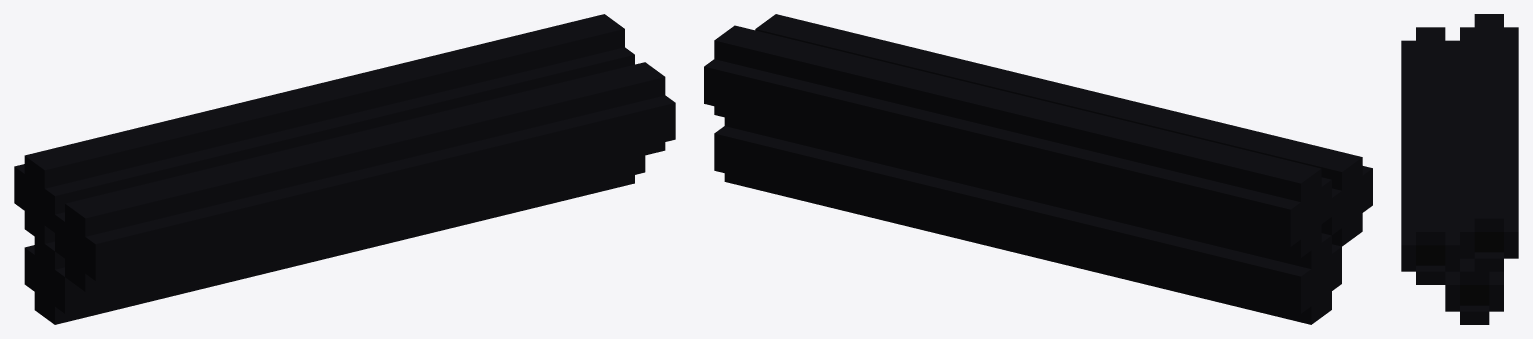
The model's file is chaingun-11-barrel2.obj.
3 views of the same model, side by side, from view 1: azimuth 30°, elevation 25°; view 2: azimuth 150°, elevation 25°; view 3: azimuth 270°, elevation 25° (orthographic). The views are drawn at different scales.
Parts seen in each view (by area): view 1: barrel2; view 2: barrel2; view 3: barrel2.
Part boxes in pixels (bbox=[...]): barrel2: bbox=[14, 14, 675, 324]; barrel2: bbox=[704, 14, 1372, 324]; barrel2: bbox=[1401, 14, 1518, 324].
Bounding box in the file's own units: 3.3 × 0.8 × 0.8.
1 material, 1 textured.
